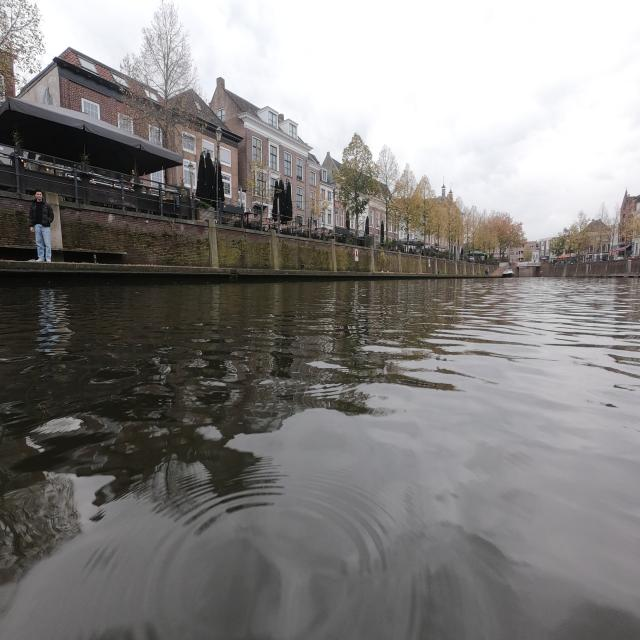dock: (0, 260, 485, 283)
sky: (172, 2, 638, 238)
wall: (56, 204, 210, 267), (216, 225, 273, 271), (0, 196, 36, 260), (278, 236, 332, 271), (336, 244, 369, 272)
water: (6, 288, 638, 632)
